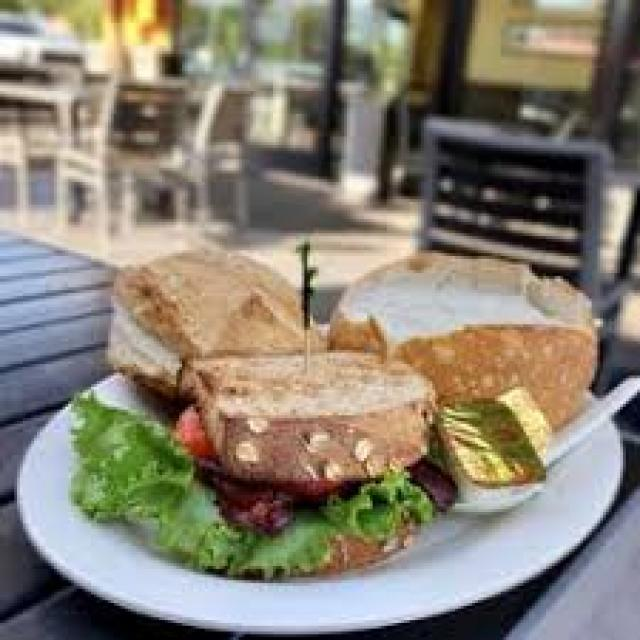Sandwich: (68, 239, 427, 563)
